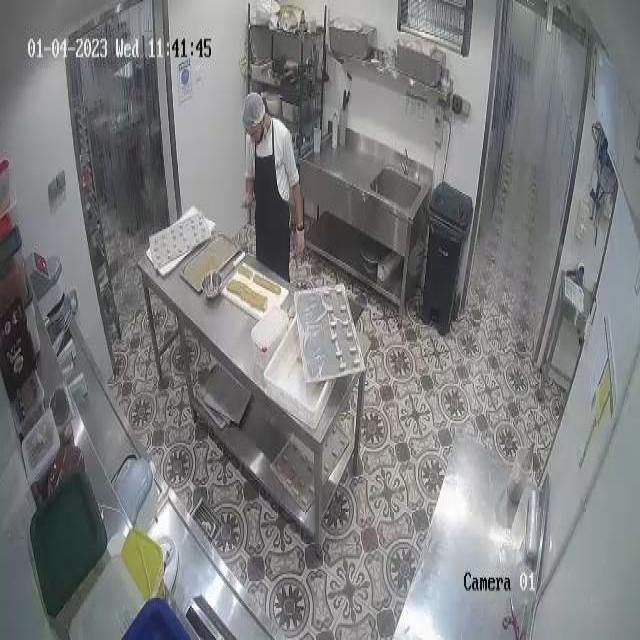hairnet: (241, 92, 264, 130)
